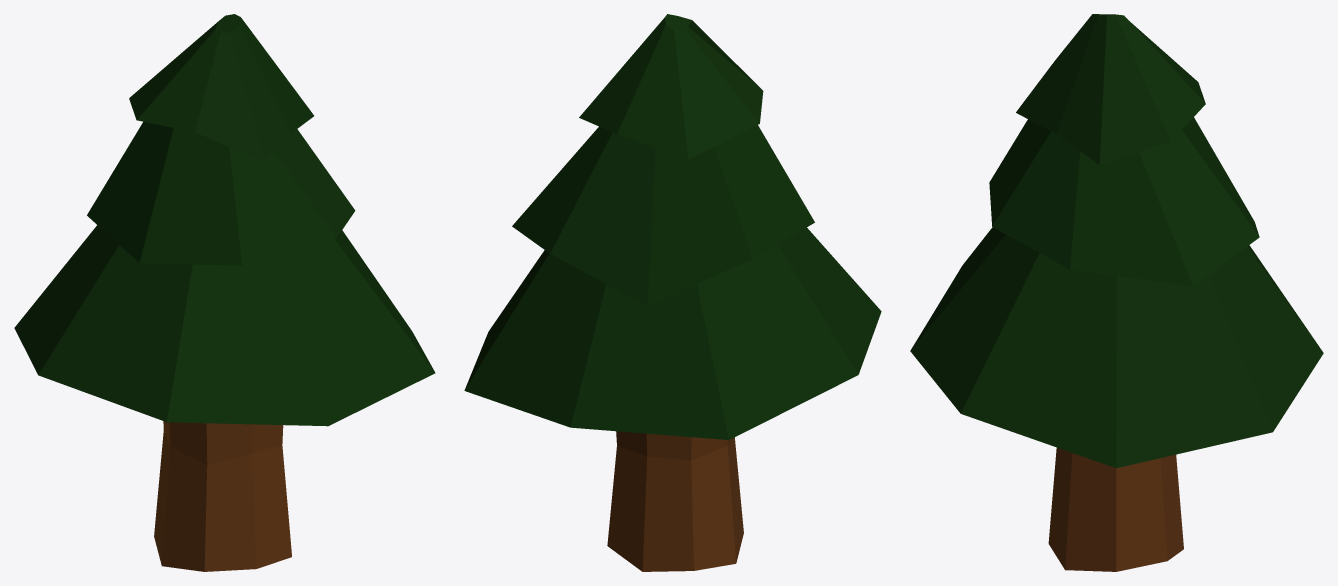
File: otherTree.fbx
3 views of the same model, side by side, from view 1: azimuth 30°, elevation 25°; view 2: azimuth 150°, elevation 25°; view 3: azimuth 270°, elevation 25° (orthographic). The views are drawn at different scales.
Parts seen in each view (by area): view 1: Cube; view 2: Cube; view 3: Cube.
Boxes of the visible parts, <box> form: Cube: <box>14,14,435,571</box>; Cube: <box>464,14,881,571</box>; Cube: <box>910,14,1323,571</box>.
Bounding box in the file's own units: 109 × 149 × 103.
